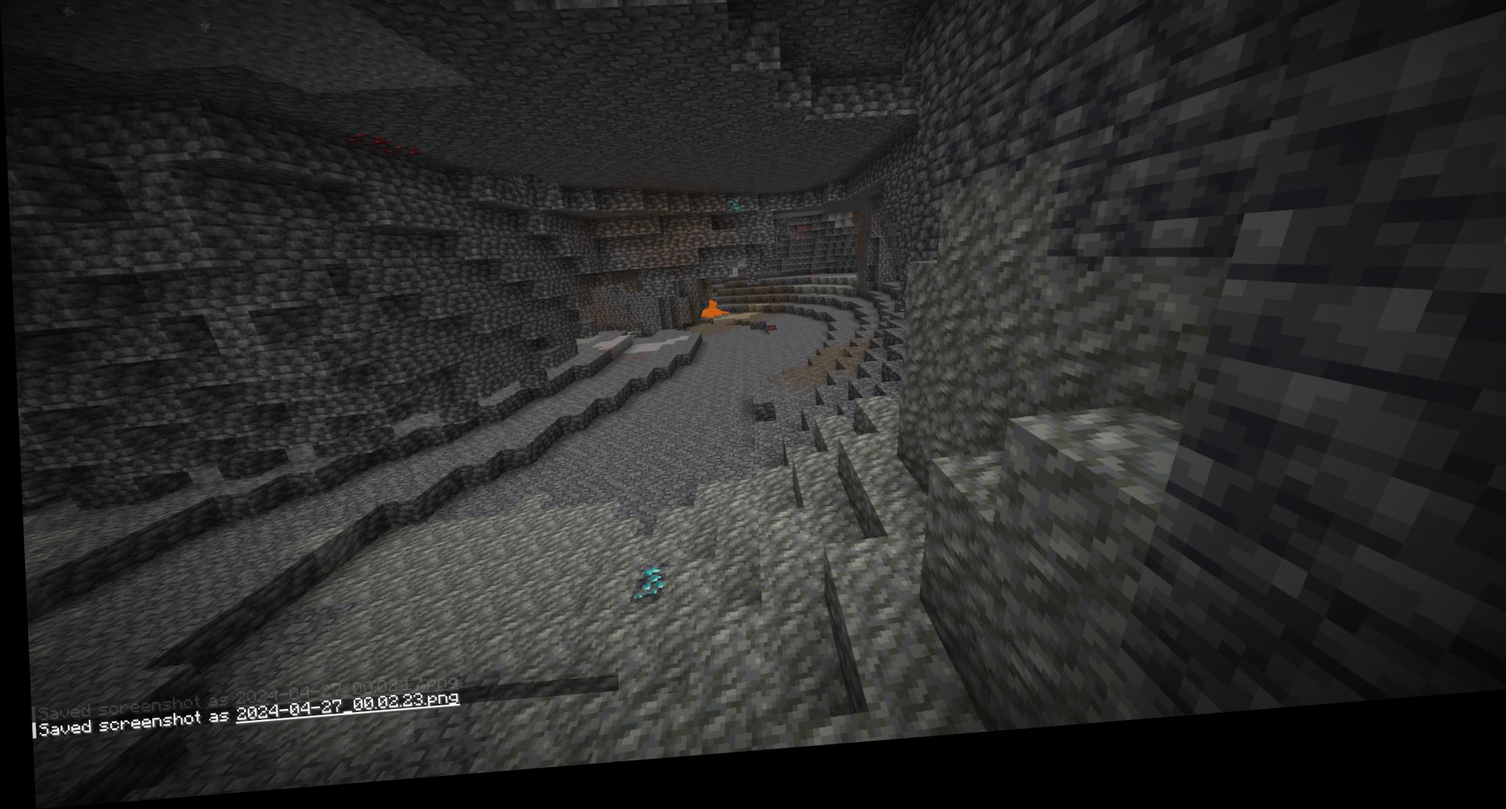diamond ore: (626, 572, 663, 614), (719, 204, 744, 229)
redstone ore: (347, 133, 419, 173)
